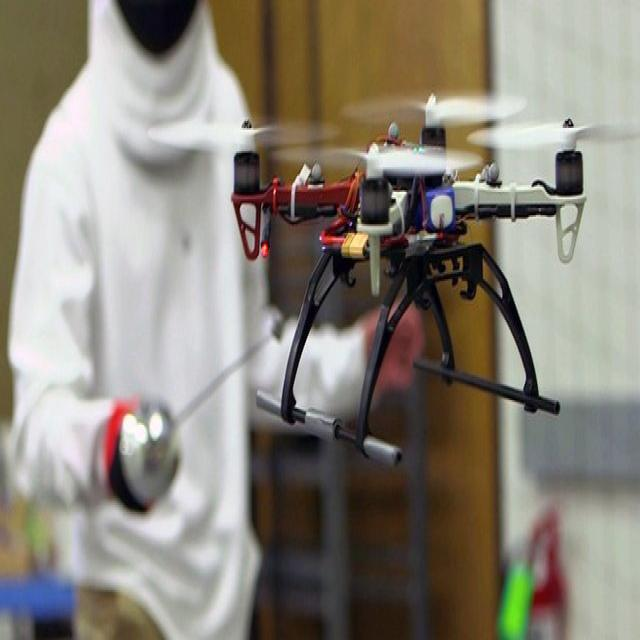drone: (185, 89, 609, 439)
